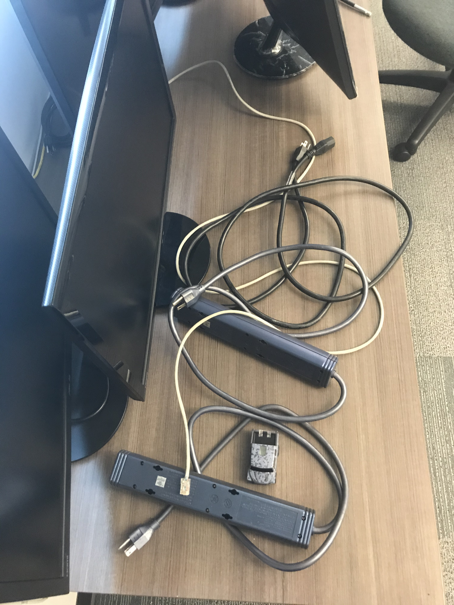MXT: (244, 427, 280, 486)
